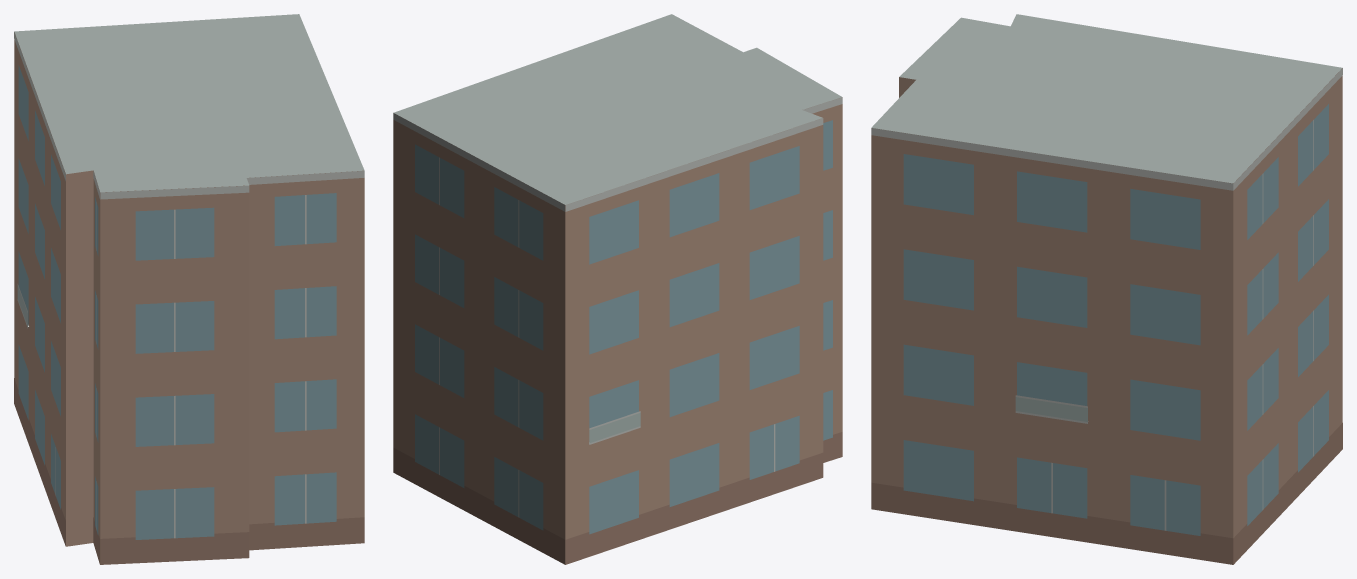
The model's file is survey-upis-32670888.glb.
3 renders of one model, left to right at view 1: azimuth 30°, elevation 25°; view 2: azimuth 150°, elevation 25°; view 3: azimuth 270°, elevation 25°, orthographic. The views are drawn at different scales.
Visible parts, largest first — view 1: survey-upis-32670888.tmp; view 2: survey-upis-32670888.tmp; view 3: survey-upis-32670888.tmp.
Part boxes in pixels (x1,y1,x2,y2): survey-upis-32670888.tmp: (14, 14, 364, 564); survey-upis-32670888.tmp: (393, 14, 842, 564); survey-upis-32670888.tmp: (871, 14, 1342, 564).
Size of the model in its own units: 12.11 by 12.7 by 14.24.
